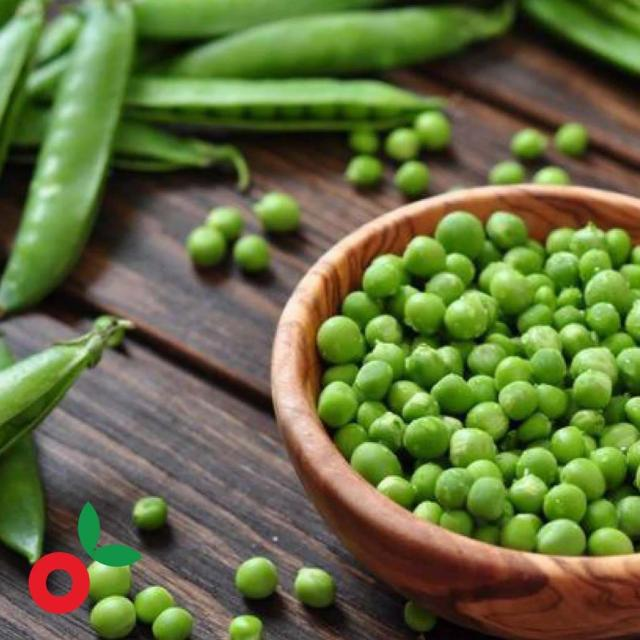arvejas: (296, 199, 640, 559)
